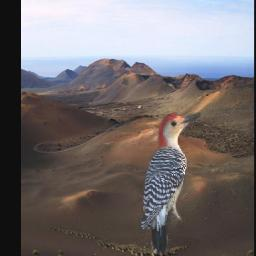Woodpecker: (140, 112, 201, 254)
